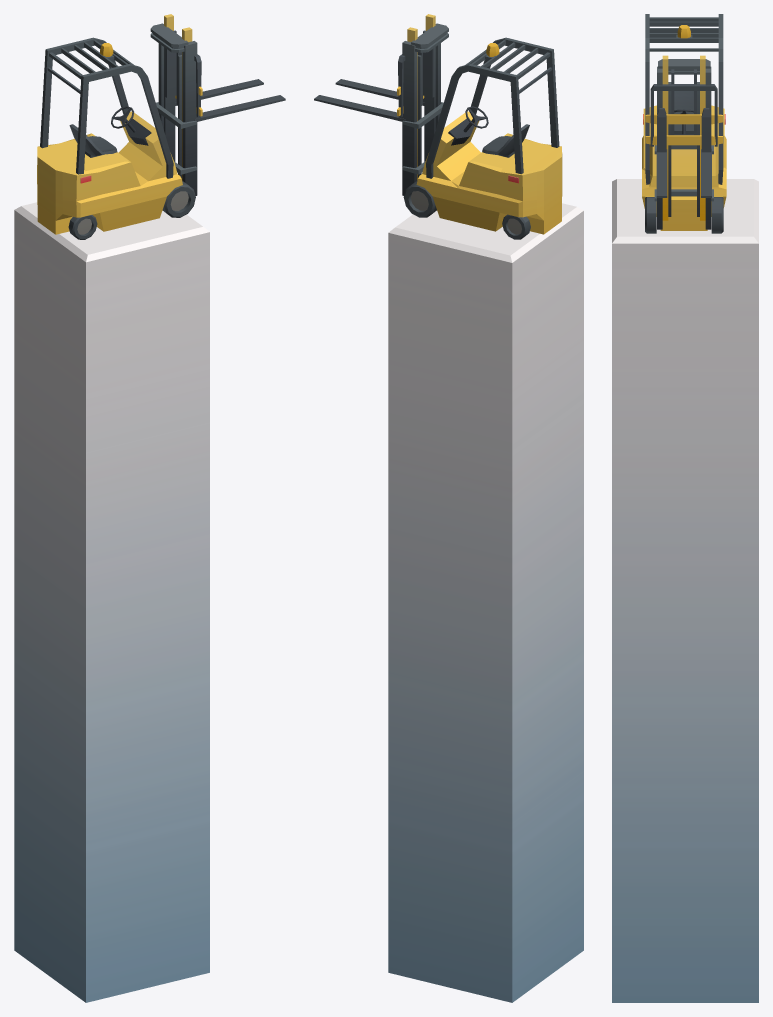
The model's file is Forklift_Base.fbx.
The picture shows the model from 3 angles, left to right: view 1: azimuth 30°, elevation 25°; view 2: azimuth 150°, elevation 25°; view 3: azimuth 270°, elevation 25°; orthographic projection. The views are drawn at different scales.
Parts seen in each view (by area): view 1: Forklift_Base, Forklift, Forklift_Level1, Forklift_Level2; view 2: Forklift_Base, Forklift, Forklift_Level1, Forklift_Level2; view 3: Forklift_Base, Forklift, Forklift_Level1, Forklift_Level3, Forklift_Level2.
Boxes of the visible parts, box(x1,y1,x2,y2) form: Forklift_Base: box(14, 202, 209, 1002); Forklift: box(37, 23, 197, 239); Forklift_Level1: box(165, 30, 285, 121); Forklift_Level2: box(164, 47, 181, 178); Forklift_Base: box(388, 203, 583, 1002); Forklift: box(402, 23, 562, 239); Forklift_Level1: box(314, 30, 434, 121); Forklift_Level2: box(417, 47, 435, 177); Forklift_Base: box(612, 179, 758, 1002); Forklift: box(642, 14, 726, 233); Forklift_Level1: box(645, 69, 722, 197); Forklift_Level3: box(662, 55, 705, 220); Forklift_Level2: box(668, 82, 699, 216).
Size of the model in its own units: 993 by 3886 by 547.
